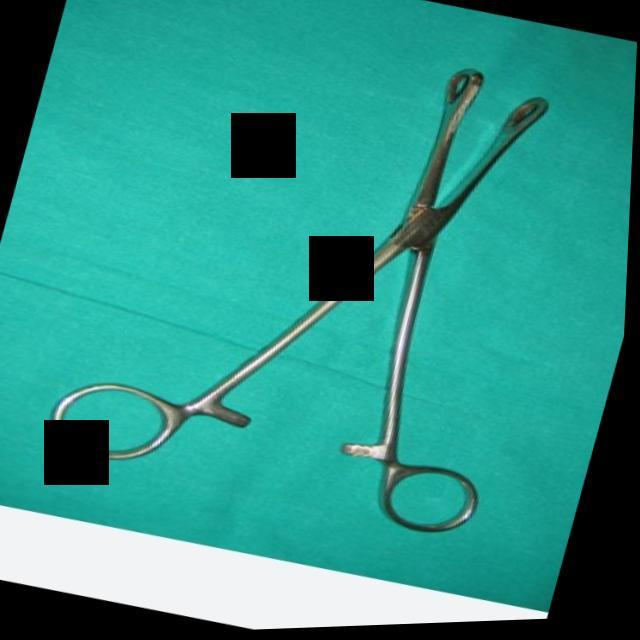Sponge Holding Forceps: (34, 0, 606, 566)
